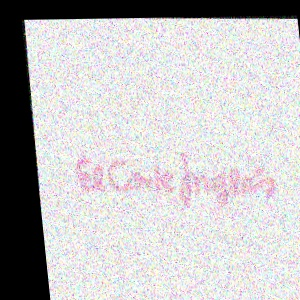corte_ingles: (258, 81, 299, 211)
